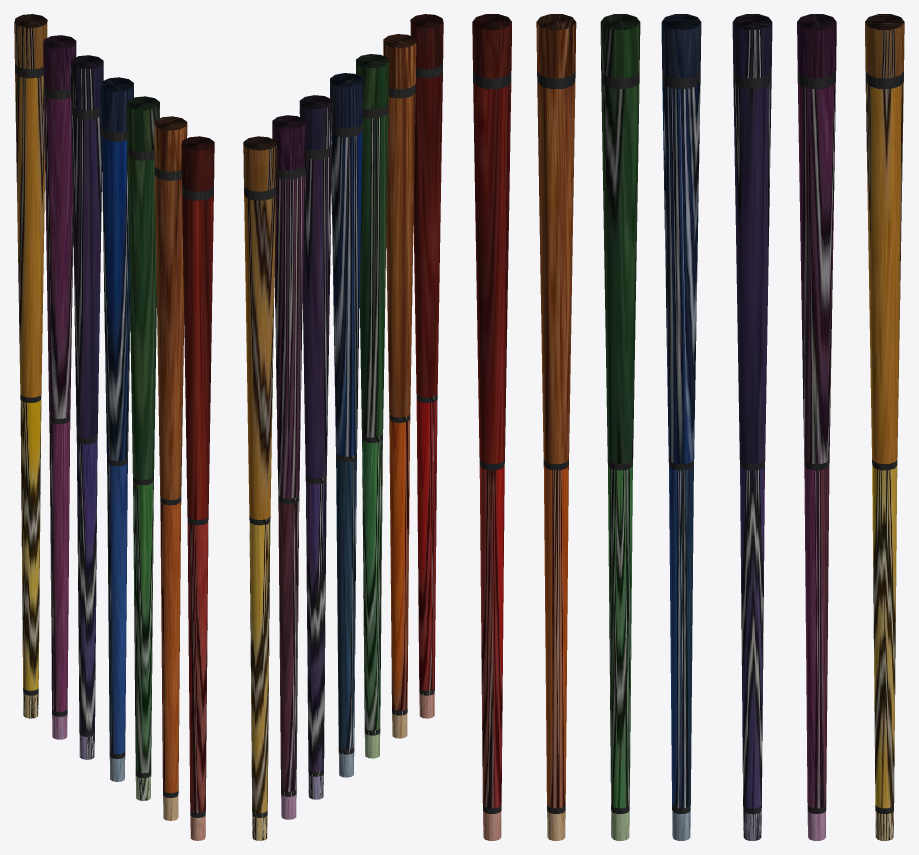
The model's file is pool sticks.fbx.
The picture shows the model from 3 angles, left to right: view 1: azimuth 30°, elevation 25°; view 2: azimuth 150°, elevation 25°; view 3: azimuth 270°, elevation 25°; orthographic projection. The views are drawn at different scales.
Parts seen in each view (by area): view 1: pool stick.001, pool stick.005, pool stick.007, pool stick.006, pool stick.002, pool stick.003, pool stick.004; view 2: pool stick.007, pool stick.004, pool stick.006, pool stick.005, pool stick.002, pool stick.001, pool stick.003; view 3: pool stick.001, pool stick.007, pool stick.006, pool stick.003, pool stick.002, pool stick.004, pool stick.005.
Part boxes in pixels (x1,y1,x2,y2): pool stick.001: (181,136,214,840); pool stick.005: (70,55,103,759); pool stick.007: (14,14,47,718); pool stick.006: (43,35,76,739); pool stick.002: (154,116,187,820); pool stick.003: (127,96,159,800); pool stick.004: (101,77,133,781); pool stick.007: (243,136,276,840); pool stick.004: (330,73,362,777); pool stick.006: (272,115,305,819); pool stick.005: (299,95,332,799); pool stick.002: (383,34,416,738); pool stick.001: (410,14,443,718); pool stick.003: (356,54,388,758); pool stick.001: (472,14,511,840); pool stick.007: (865,14,904,840); pool stick.006: (797,14,836,840); pool stick.003: (600,14,640,840); pool stick.002: (536,14,576,840); pool stick.004: (661,14,701,840); pool stick.005: (732,14,772,840).
Size of the model in its own units: 197 by 4679 by 2249.
7 materials, 7 textured.
